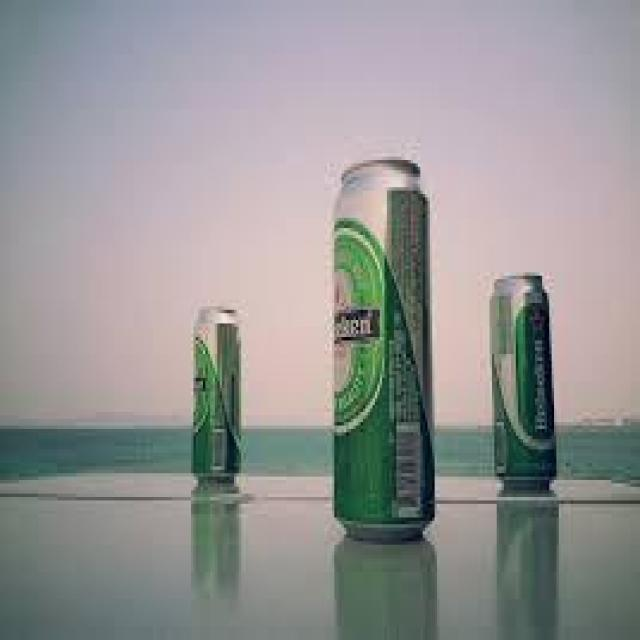beer-can: (330, 156, 434, 542), (487, 269, 561, 504), (188, 300, 250, 498)
